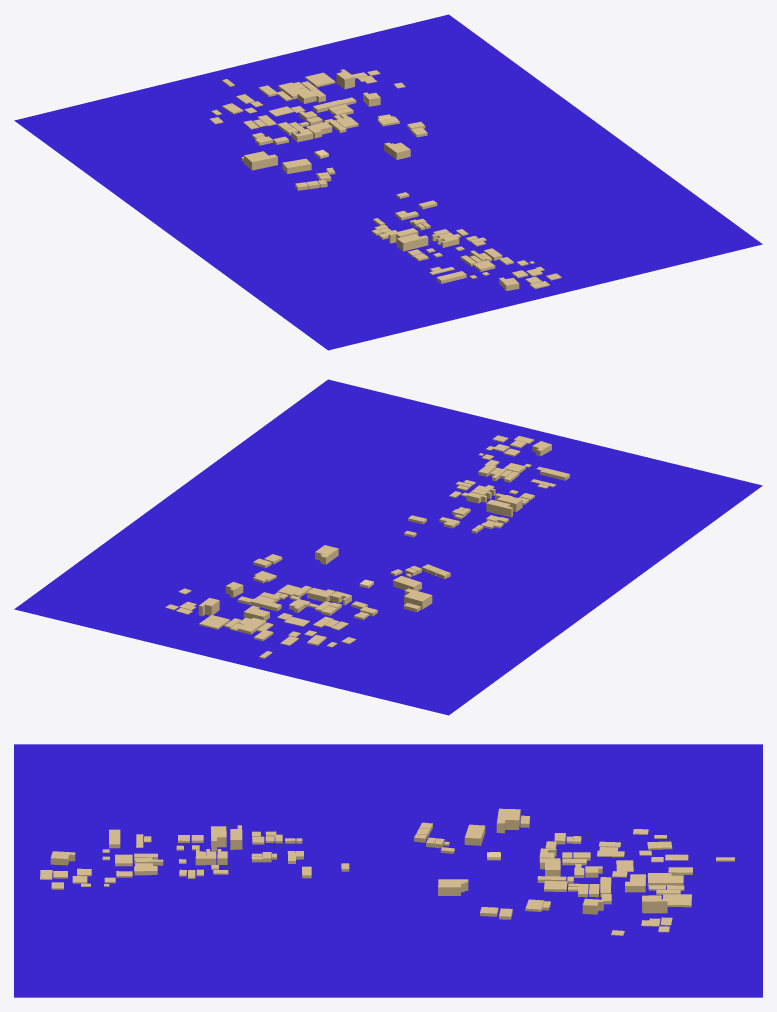
The model's file is sankalapuram.glb.
The picture shows the model from 3 angles, top to bottom: view 1: azimuth 30°, elevation 25°; view 2: azimuth 150°, elevation 25°; view 3: azimuth 270°, elevation 25°; orthographic projection. The views are drawn at different scales.
Parts seen in each view (by area): view 1: Plane; view 2: Plane; view 3: Plane, Cube, Cube.044, Cube.076.
Boxes of the visible parts, x1,y1,x2,y2 form: Plane: (14, 14, 762, 350); Plane: (14, 379, 762, 715); Plane: (14, 744, 762, 997); Cube: (496, 808, 520, 833); Cube.044: (438, 879, 468, 895); Cube.076: (642, 895, 667, 913).
Size of the model in its own units: 20 by 0.8685 by 25.02.
